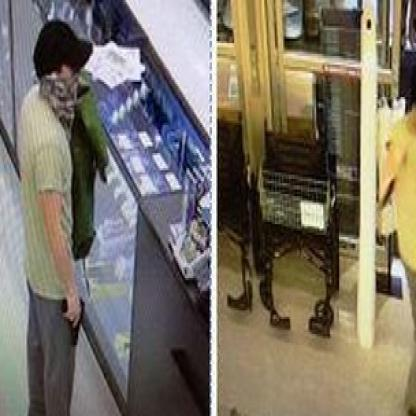gun: (58, 293, 90, 354), (376, 162, 400, 218)
